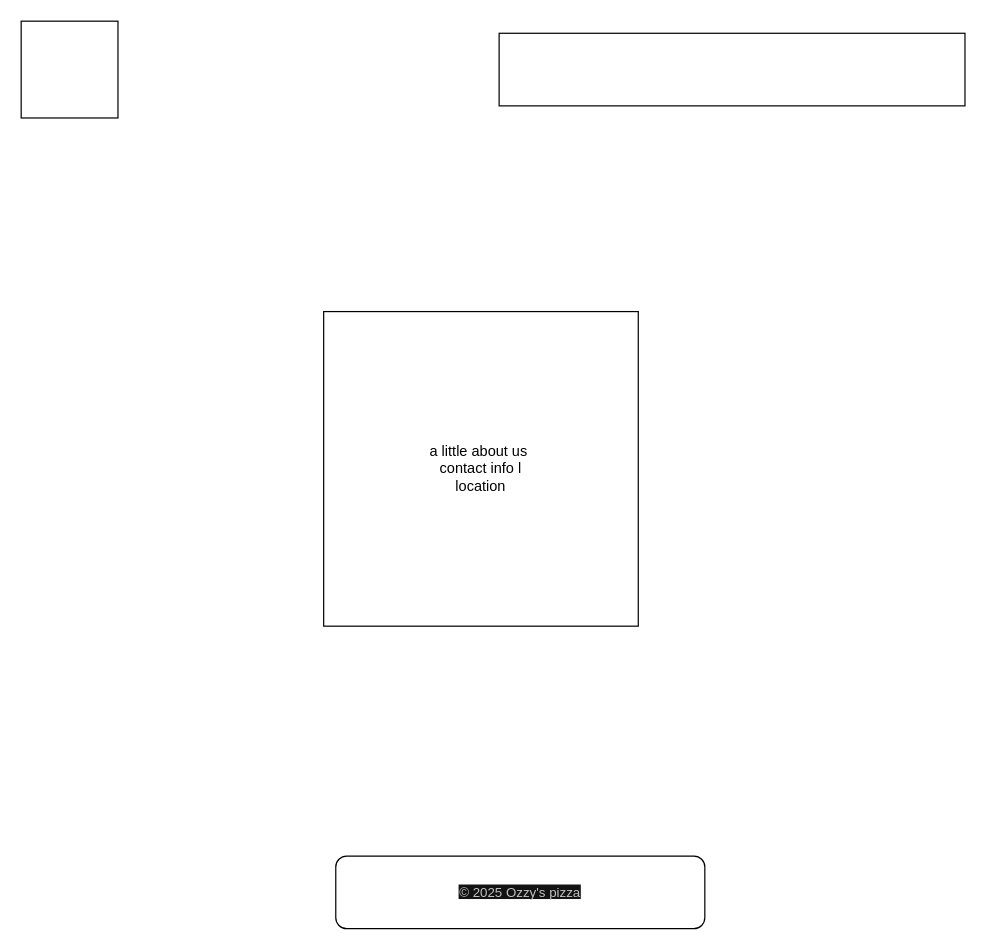
Image size: 986x950. Some labels were removed from this diagram. Here are the shapes that lost their labels. From the top down, the centre of each, then its label:
At (x=69, y=69): "logo".
At (x=731, y=69): "home/menu/create your own/contact".
